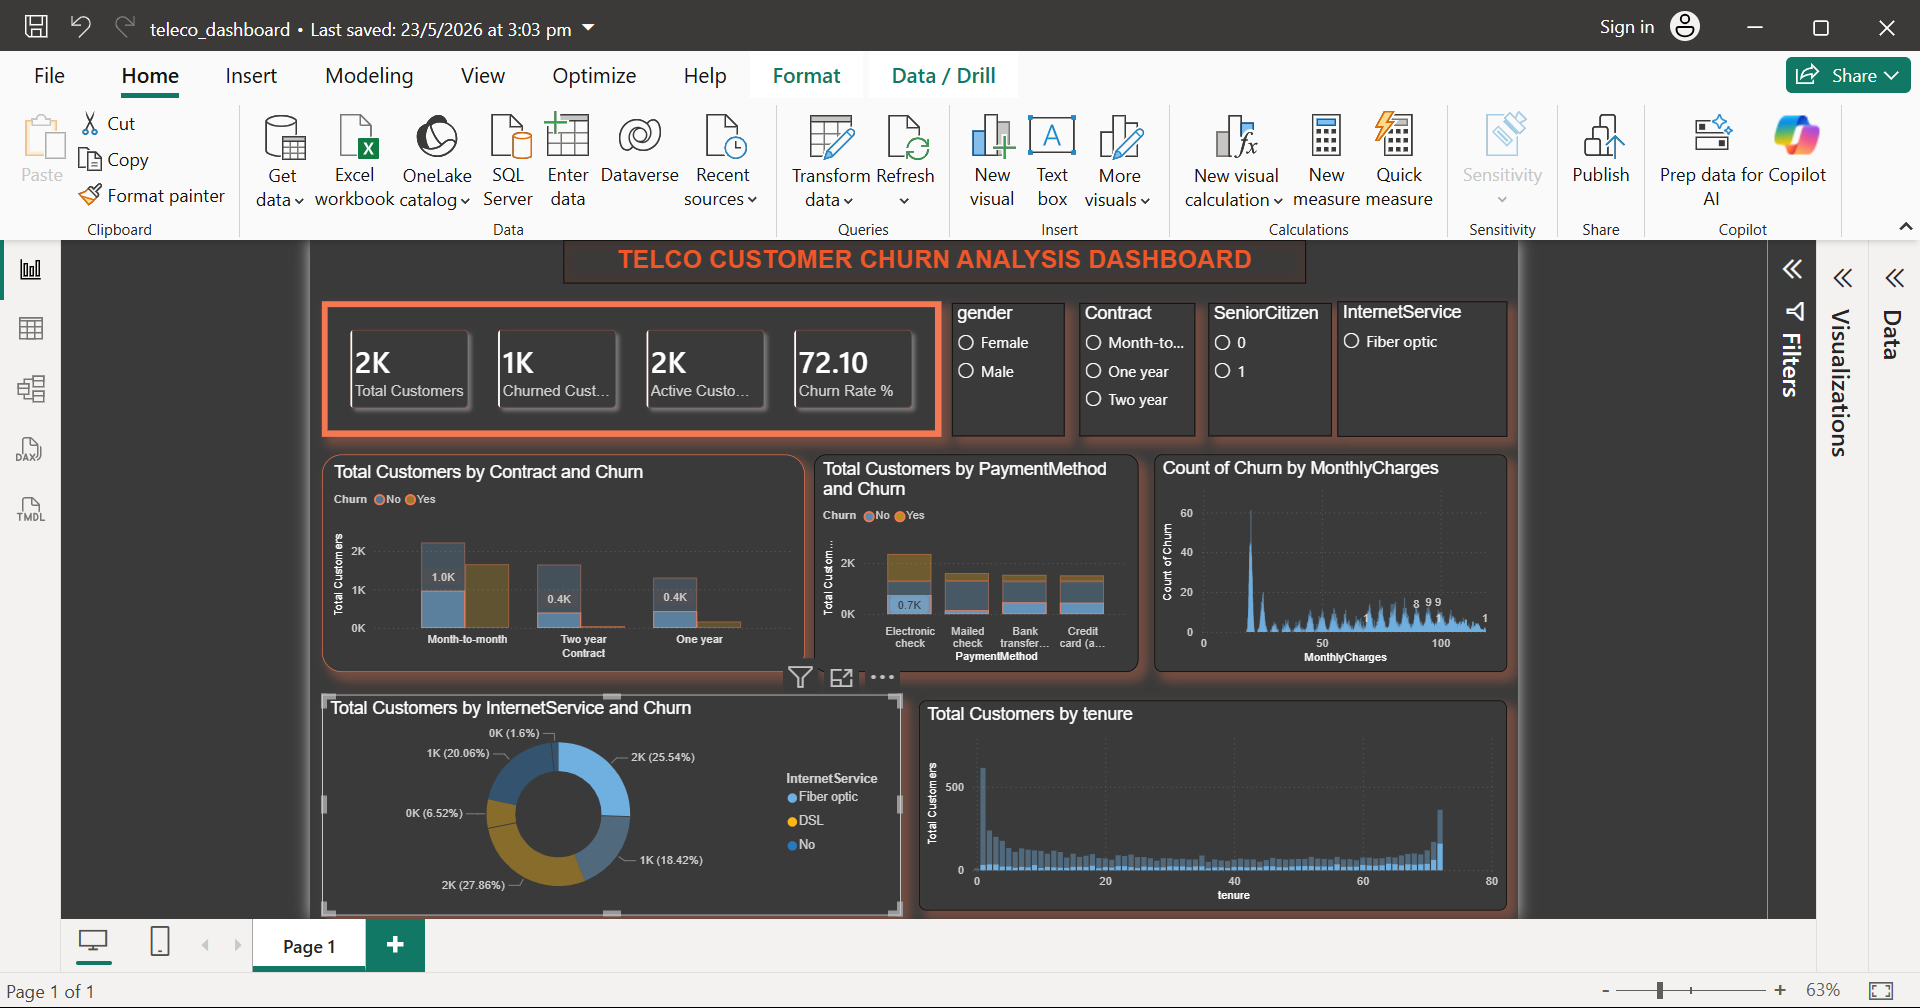

What the dashboard file says about the page in this screenshot:
{"tool":"powerbi","page":{"name":"Page 1","canvas":[1280,720],"ordinal":0},"visuals":[{"type":"cardVisual","fields":{"Data":["WA_Fn-UseC_-Telco-Customer-Churn.Total Customers","WA_Fn-UseC_-Telco-Customer-Churn.Churned Customers","WA_Fn-UseC_-Telco-Customer-Churn.Active Customers","WA_Fn-UseC_-Telco-Customer-Churn.Churn Rate %"]},"box":[12.7,65.2,656.9,143.2],"z":0},{"type":"clusteredColumnChart","fields":{"Category":["WA_Fn-UseC_-Telco-Customer-Churn.Contract"],"Y":["WA_Fn-UseC_-Telco-Customer-Churn.Total Customers"],"Series":["WA_Fn-UseC_-Telco-Customer-Churn.Churn"]},"box":[13.2,226.8,512.1,230.6],"z":1000},{"type":"donutChart","fields":{"Category":["WA_Fn-UseC_-Telco-Customer-Churn.InternetService"],"Series":["WA_Fn-UseC_-Telco-Customer-Churn.Churn"],"Y":["WA_Fn-UseC_-Telco-Customer-Churn.Total Customers"]},"box":[12.7,482,614,233.8],"z":2000},{"type":"columnChart","fields":{"Category":["WA_Fn-UseC_-Telco-Customer-Churn.PaymentMethod"],"Y":["WA_Fn-UseC_-Telco-Customer-Churn.Total Customers"],"Series":["WA_Fn-UseC_-Telco-Customer-Churn.Churn"]},"box":[534.8,226.8,343.9,230.6],"z":3000},{"type":"columnChart","fields":{"Y":["WA_Fn-UseC_-Telco-Customer-Churn.Total Customers"],"Category":["WA_Fn-UseC_-Telco-Customer-Churn.tenure"]},"box":[645.8,488.3,623.5,222.7],"z":4000},{"type":"columnChart","fields":{"Category":["WA_Fn-UseC_-Telco-Customer-Churn.MonthlyCharges"],"Y":["CountNonNull(WA_Fn-UseC_-Telco-Customer-Churn.Churn)"]},"box":[895.5,227.5,373.8,230.6],"z":5000},{"type":"listSlicer","fields":{"Values":["WA_Fn-UseC_-Telco-Customer-Churn.gender"]},"box":[680.8,66.8,119.3,141.6],"z":6000},{"type":"listSlicer","fields":{"Values":["WA_Fn-UseC_-Telco-Customer-Churn.Contract"]},"box":[816,66.8,122.5,141.6],"z":7000},{"type":"listSlicer","fields":{"Values":["WA_Fn-UseC_-Telco-Customer-Churn.SeniorCitizen"]},"box":[952.8,66.8,130.4,141.6],"z":8000},{"type":"listSlicer","fields":{"Values":["WA_Fn-UseC_-Telco-Customer-Churn.InternetService"]},"box":[1089.6,65.2,179.7,143.2],"z":9000},{"type":"textbox","box":[268.8,0,787.4,46.1],"z":9001}]}

Visuals, with their boxes on the page's 1280x720 design canvas (x1, y1, x2, y2). These are canvas units, not pixel positions in the 1920x1008 screenshot, which may show the page scaled, cropped or inside an application window:
cardVisual - WA_Fn-UseC_-Telco-Customer-Churn.Total Customers x WA_Fn-UseC_-Telco-Customer-Churn.Churned Customers: bbox(13, 65, 670, 208)
clusteredColumnChart - WA_Fn-UseC_-Telco-Customer-Churn.Contract x WA_Fn-UseC_-Telco-Customer-Churn.Total Customers: bbox(13, 227, 525, 457)
donutChart - WA_Fn-UseC_-Telco-Customer-Churn.InternetService x WA_Fn-UseC_-Telco-Customer-Churn.Churn: bbox(13, 482, 627, 716)
columnChart - WA_Fn-UseC_-Telco-Customer-Churn.PaymentMethod x WA_Fn-UseC_-Telco-Customer-Churn.Total Customers: bbox(535, 227, 879, 457)
columnChart - WA_Fn-UseC_-Telco-Customer-Churn.Total Customers x WA_Fn-UseC_-Telco-Customer-Churn.tenure: bbox(646, 488, 1269, 711)
columnChart - WA_Fn-UseC_-Telco-Customer-Churn.MonthlyCharges x CountNonNull(WA_Fn-UseC_-Telco-Customer-Churn.Churn): bbox(896, 228, 1269, 458)
listSlicer - WA_Fn-UseC_-Telco-Customer-Churn.gender: bbox(681, 67, 800, 208)
listSlicer - WA_Fn-UseC_-Telco-Customer-Churn.Contract: bbox(816, 67, 938, 208)
listSlicer - WA_Fn-UseC_-Telco-Customer-Churn.SeniorCitizen: bbox(953, 67, 1083, 208)
listSlicer - WA_Fn-UseC_-Telco-Customer-Churn.InternetService: bbox(1090, 65, 1269, 208)
textbox: bbox(269, 0, 1056, 46)
